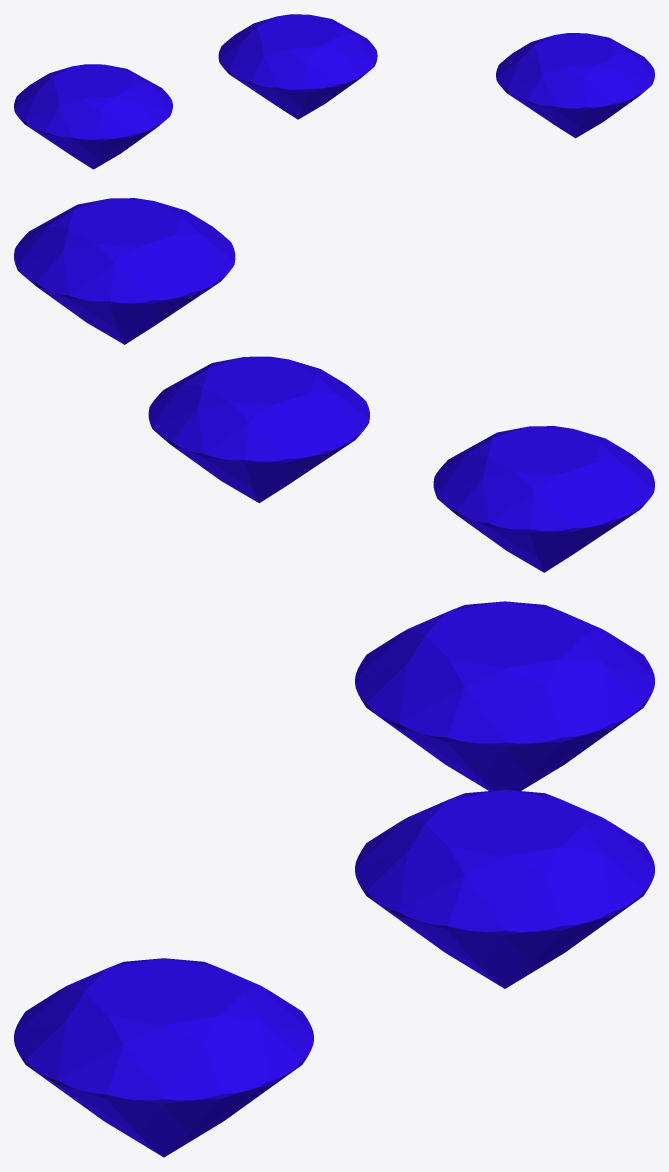
File: diamonds.fbx
3 views of the same model, one above another, from view 1: azimuth 30°, elevation 25°; view 2: azimuth 150°, elevation 25°; view 3: azimuth 270°, elevation 25° (orthographic). The views are drawn at different scales.
Parts seen in each view (by area): view 1: Green_Diamond, Blue_diamond, Red_Diamond; view 2: Blue_diamond, Red_Diamond, Green_Diamond; view 3: Red_Diamond, Green_Diamond, Blue_diamond.
Boxes of the visible parts, x1=… form: Green_Diamond: x1=218, y1=14, x2=377, y2=119; Blue_diamond: x1=14, y1=64, x2=172, y2=169; Red_Diamond: x1=496, y1=33, x2=654, y2=138; Blue_diamond: x1=433, y1=426, x2=654, y2=572; Red_Diamond: x1=14, y1=198, x2=235, y2=344; Green_Diamond: x1=148, y1=356, x2=369, y2=503; Red_Diamond: x1=14, y1=958, x2=313, y2=1157; Green_Diamond: x1=355, y1=789, x2=654, y2=988; Blue_diamond: x1=355, y1=601, x2=654, y2=790.
Size of the model in its own units: 769 by 125 by 427.
